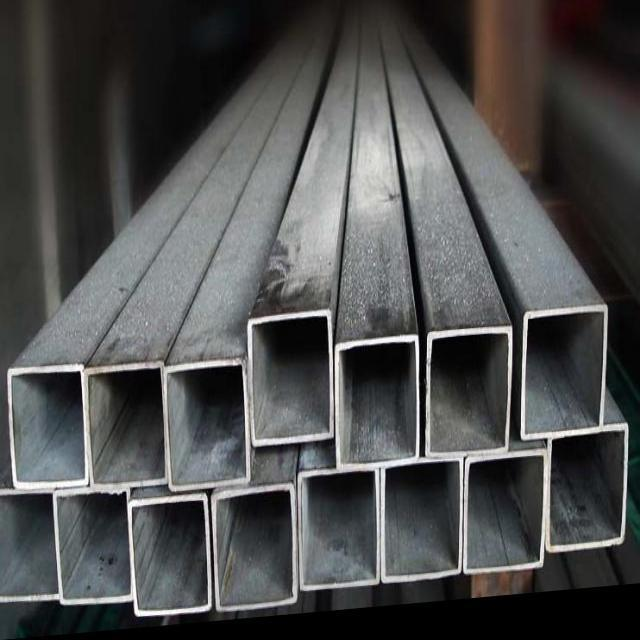pipe: (336, 349, 420, 474), (250, 322, 330, 446), (167, 370, 250, 488), (215, 494, 296, 610), (85, 376, 164, 494), (429, 343, 506, 463), (528, 321, 602, 445), (130, 503, 210, 617), (299, 480, 375, 598), (469, 466, 542, 584), (12, 371, 82, 492), (384, 474, 458, 588), (548, 449, 623, 561), (55, 494, 126, 608), (0, 494, 55, 598)
